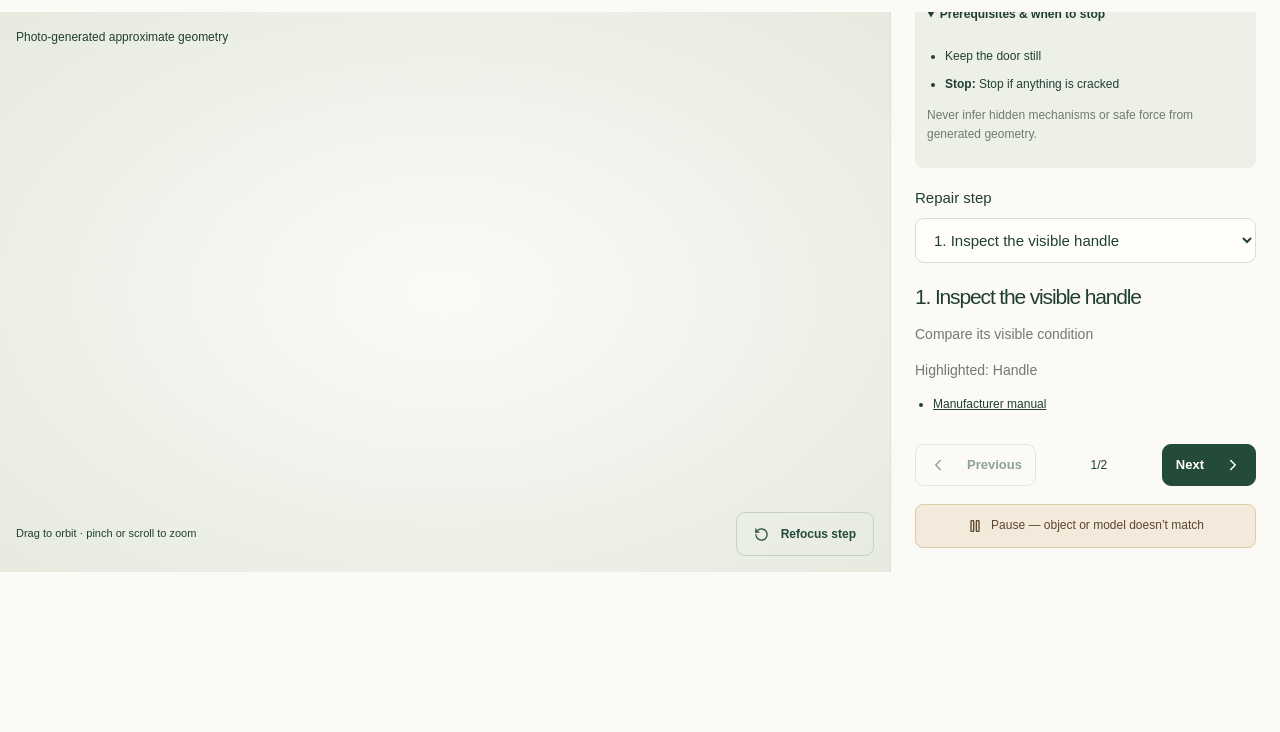
Test: persisted pipeline progress › persists a mismatched-object stop and stays locked even if cancellation fails
This screenshot has width=1280, height=732.
(page scrolled)
Click the button "Pause — object or model doesn’t match" at (1086, 526), box x1=915 y1=504 x2=1256 y2=548
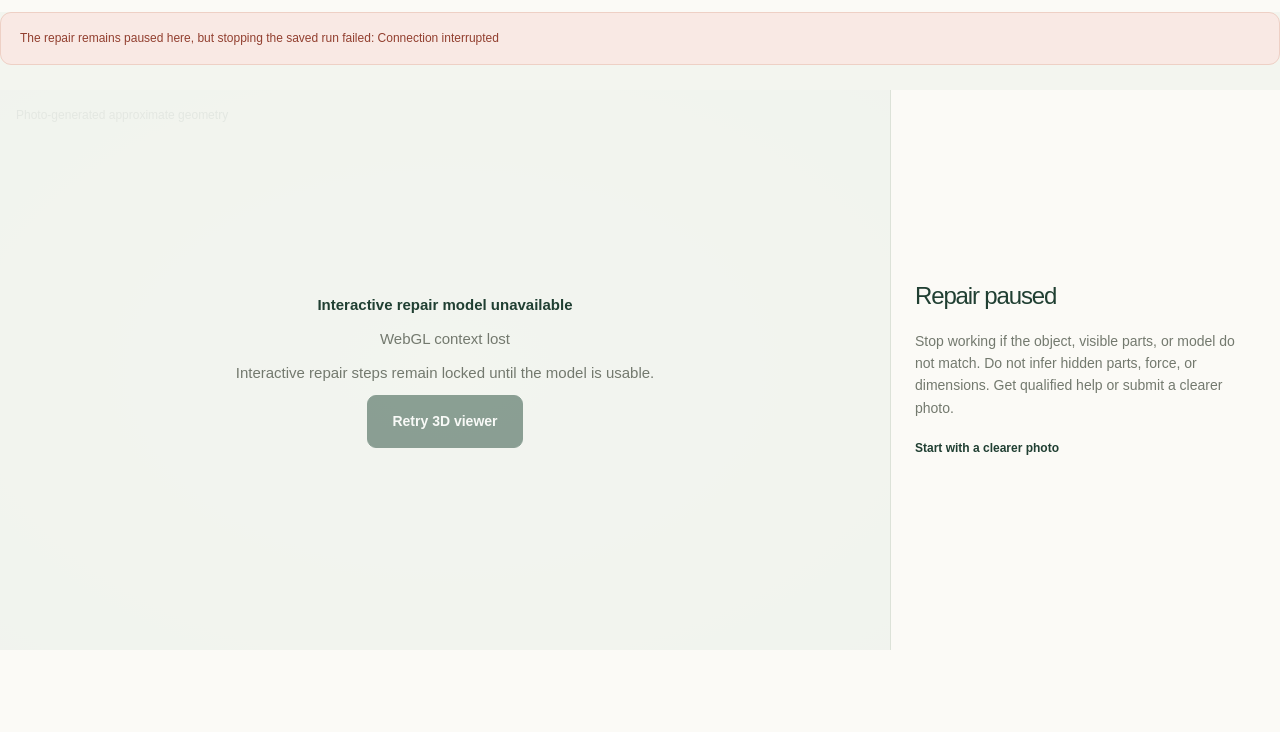
Expected: the 1st message shows "stopping the saved run failed", x1=20 y1=31 x2=499 y2=45
Expected: the button "Retry 3D viewer" is disabled, x1=368 y1=395 x2=523 y2=448
